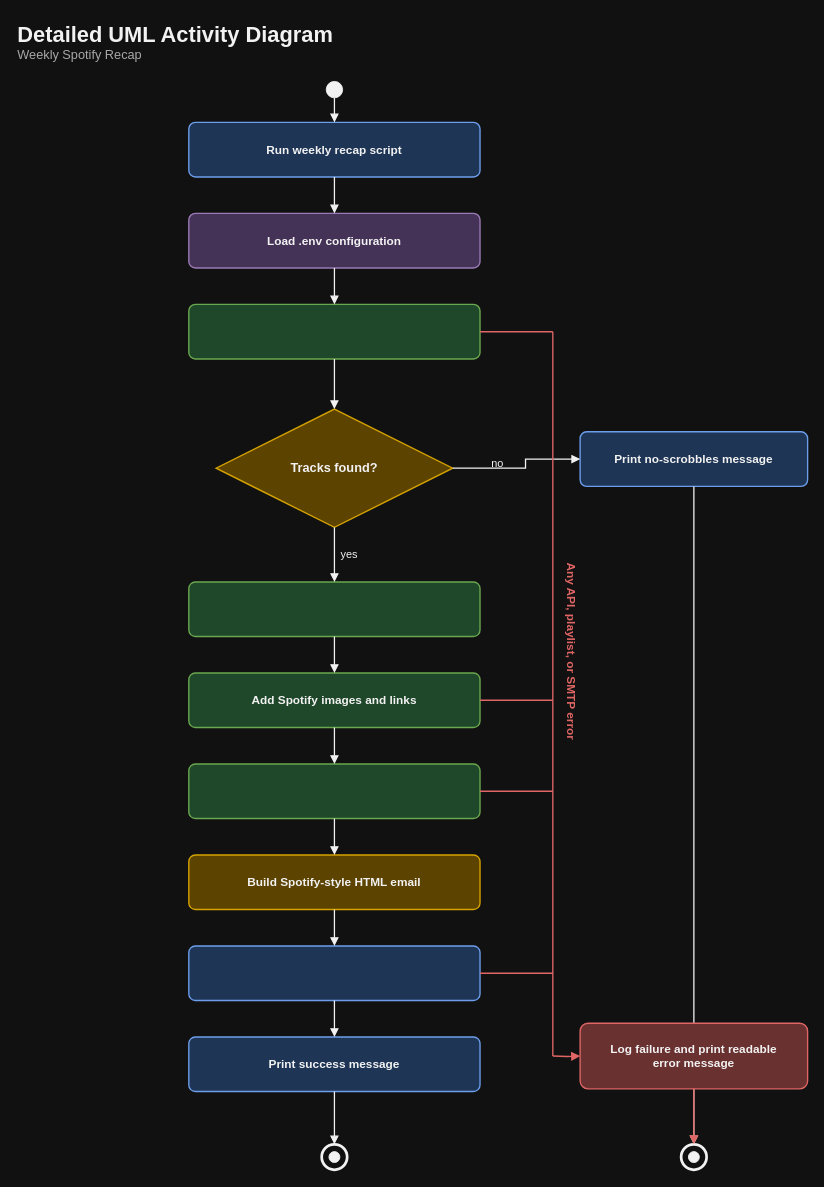
Image size: 824x1187. Some labels were removed from this diagram. The shapes that lost their labels are listed below. From the top down, each one's centre as x and y in pixels, then its label:
the point at 334,331: Fetch recent tracks from Last.fm API
the point at 334,609: Build weekly summary
the point at 334,791: Create or update Spotify playlist
the point at 334,973: Send recap through Gmail SMTP
